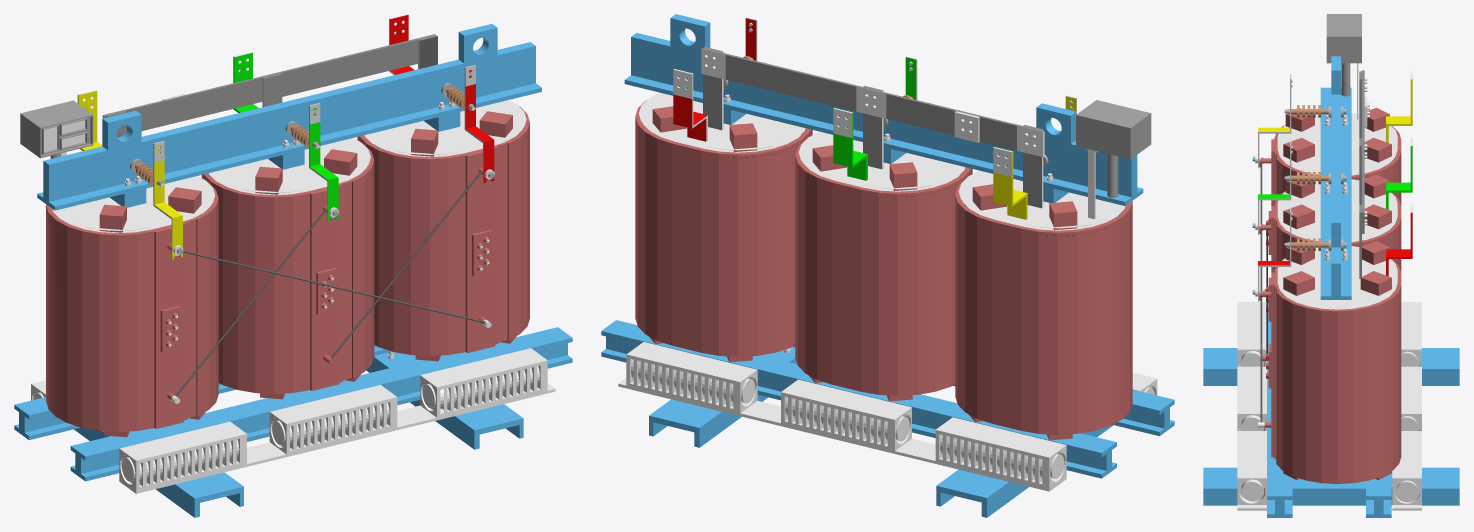
The picture shows the model from 3 angles, left to right: view 1: azimuth 30°, elevation 25°; view 2: azimuth 150°, elevation 25°; view 3: azimuth 270°, elevation 25°; orthographic projection. The views are drawn at different scales.
Visible parts, largest first — view 1: Group39, Group4, Group17, Group29, Group2, Group20, Group3, Group40; view 2: Group39, Group23, Group4, Group40, Group2, Group3, Group29; view 3: Group39, Group2, Group4, Group23, Group17, Group20, Group3, Group29, Group40, Group28, Group22, Group68.
Boxes of the visible parts, box(x1,y1,x2,y2) form: Group39: box(46, 14, 529, 437); Group4: box(37, 24, 541, 210); Group17: box(119, 383, 555, 493); Group29: box(70, 327, 572, 481); Group2: box(61, 112, 523, 517); Group20: box(420, 348, 547, 417); Group3: box(20, 100, 93, 158); Group40: box(14, 345, 393, 439); Group39: box(635, 17, 1132, 440); Group23: box(618, 342, 1066, 491); Group4: box(624, 14, 1143, 205); Group40: box(601, 320, 1116, 478); Group2: box(630, 108, 1113, 517); Group3: box(1076, 100, 1151, 197); Group29: box(793, 345, 1174, 436); Group39: box(1252, 70, 1412, 483); Group2: box(1203, 63, 1459, 505); Group4: box(1320, 56, 1351, 299); Group23: box(1392, 302, 1421, 510); Group17: box(1237, 302, 1266, 510); Group20: box(1237, 431, 1266, 504); Group3: box(1326, 14, 1361, 96); Group29: box(1267, 303, 1292, 517); Group40: box(1366, 474, 1391, 517); Group28: box(1284, 105, 1346, 117); Group22: box(1284, 238, 1346, 250); Group68: box(1284, 172, 1346, 184).
Size of the model in its own units: 1.89 by 1.3 by 0.96.
